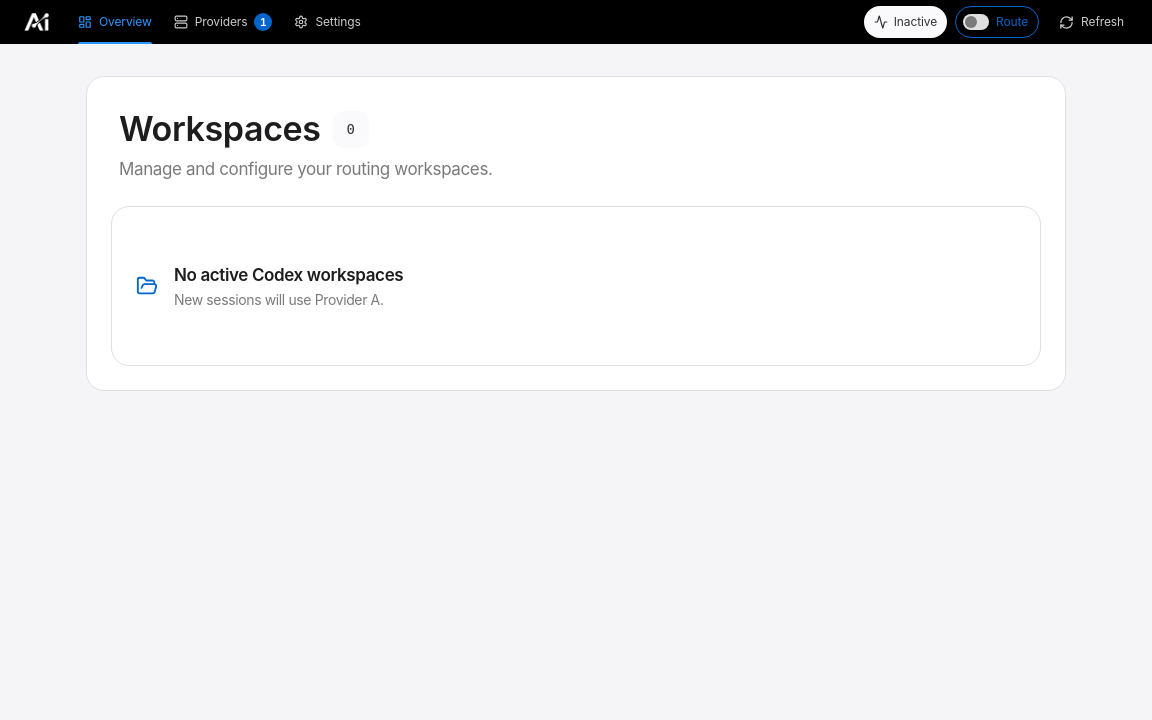
Test: App › scans automatically and imports the selected providers
Click the tab "Providers 1".
click(223, 22)  # box top-left (172, 0), bottom-right (274, 44)
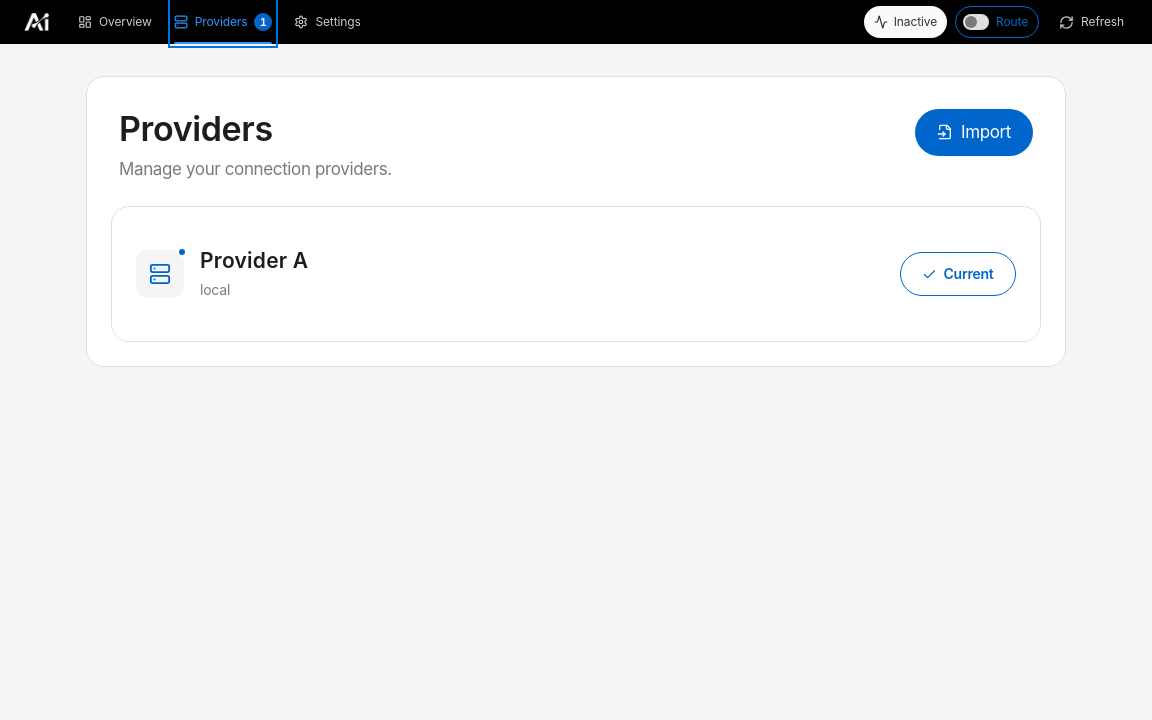
Expected: the element "Providers" is shown, top-left (86, 76), bottom-right (1066, 367)
Click the button with aria-label "Import providers from cc-switch".
click(974, 132)  # box top-left (915, 109), bottom-right (1033, 156)
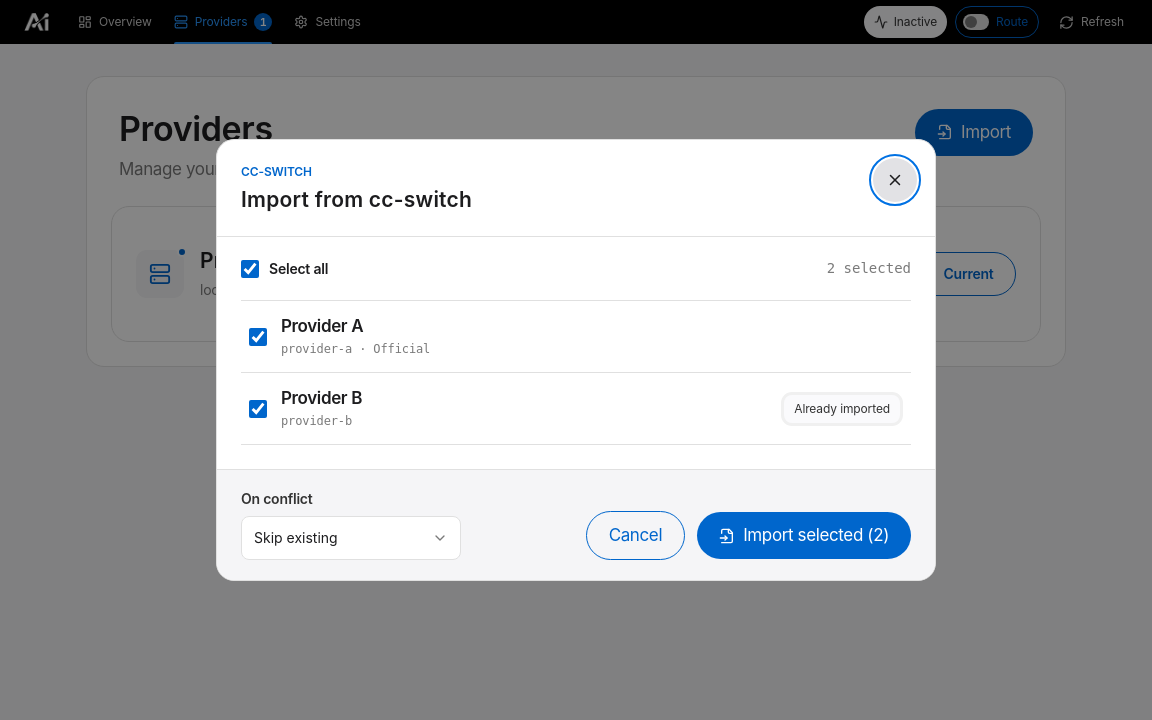
Expected: the dialog "Import from cc-switch" is shown, top-left (216, 139), bottom-right (936, 581)
Click the checkbox labelled "Provider B provider-b Already imported".
click(258, 409)  # box top-left (249, 400), bottom-right (267, 418)
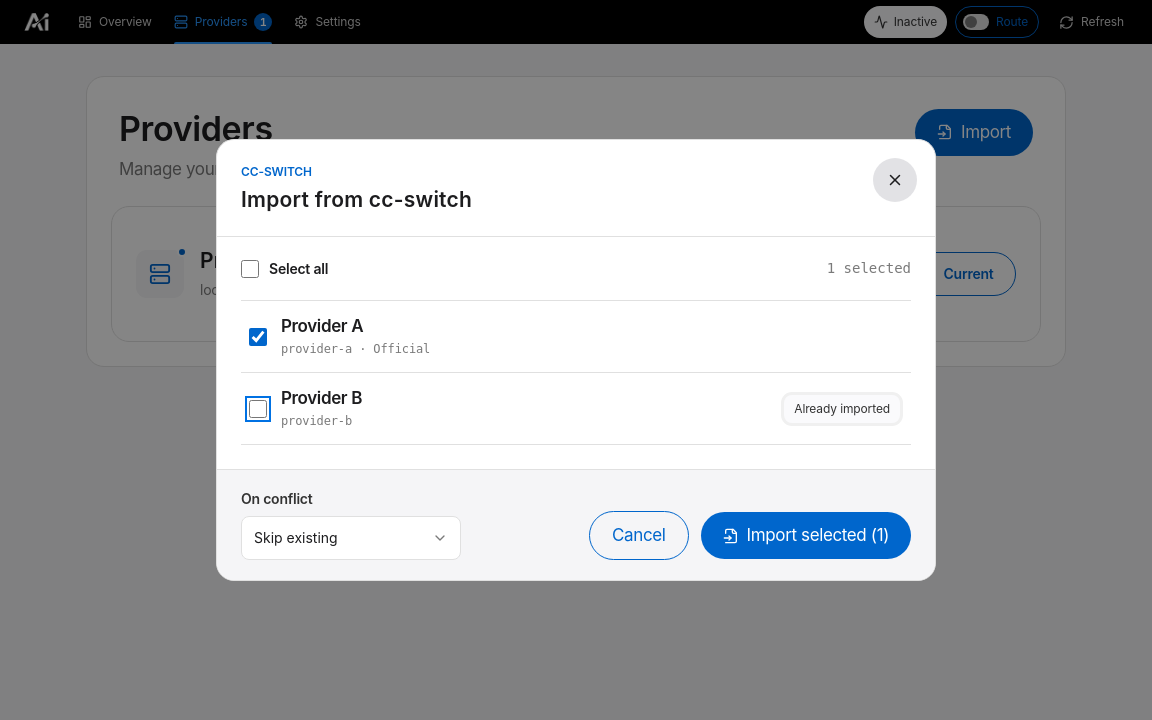
Click the button "Import selected (1)".
click(806, 536)  # box top-left (701, 512), bottom-right (911, 559)
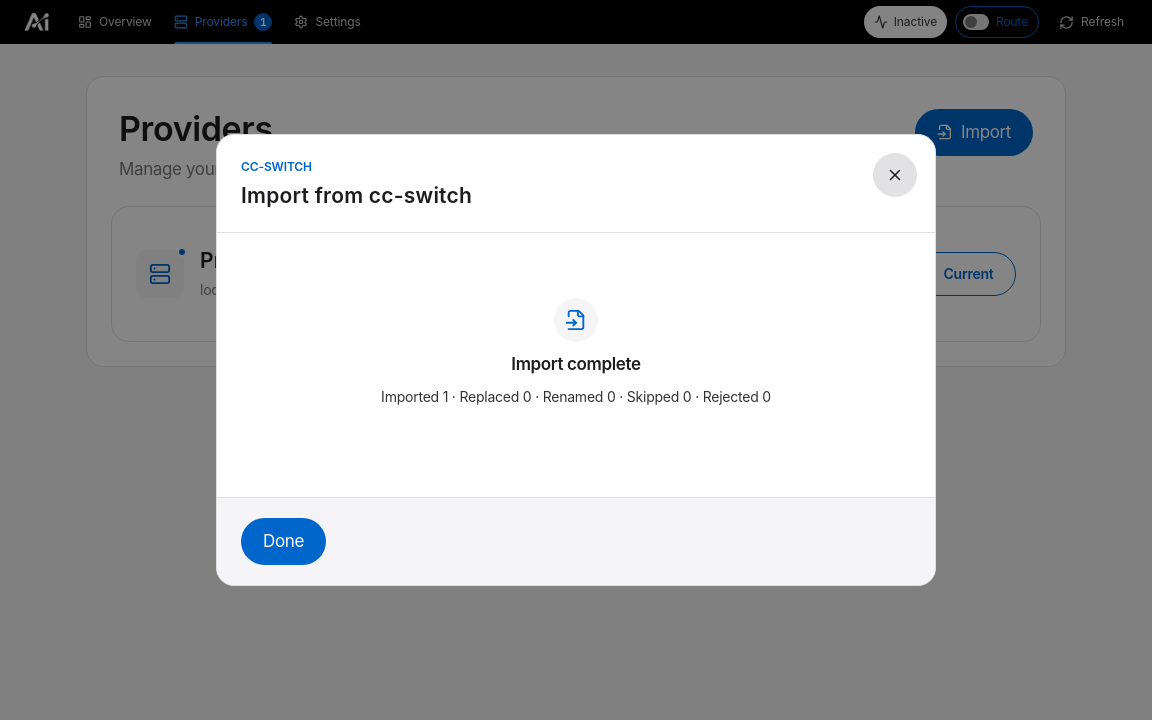
Expected: the button "Current" is shown, top-left (900, 252), bottom-right (1016, 296)
Expected: the text "Imported 1 · Replaced 0 · Renamed 0 · Skipped 0 · Rejected 0" is shown, top-left (381, 387), bottom-right (771, 407)
